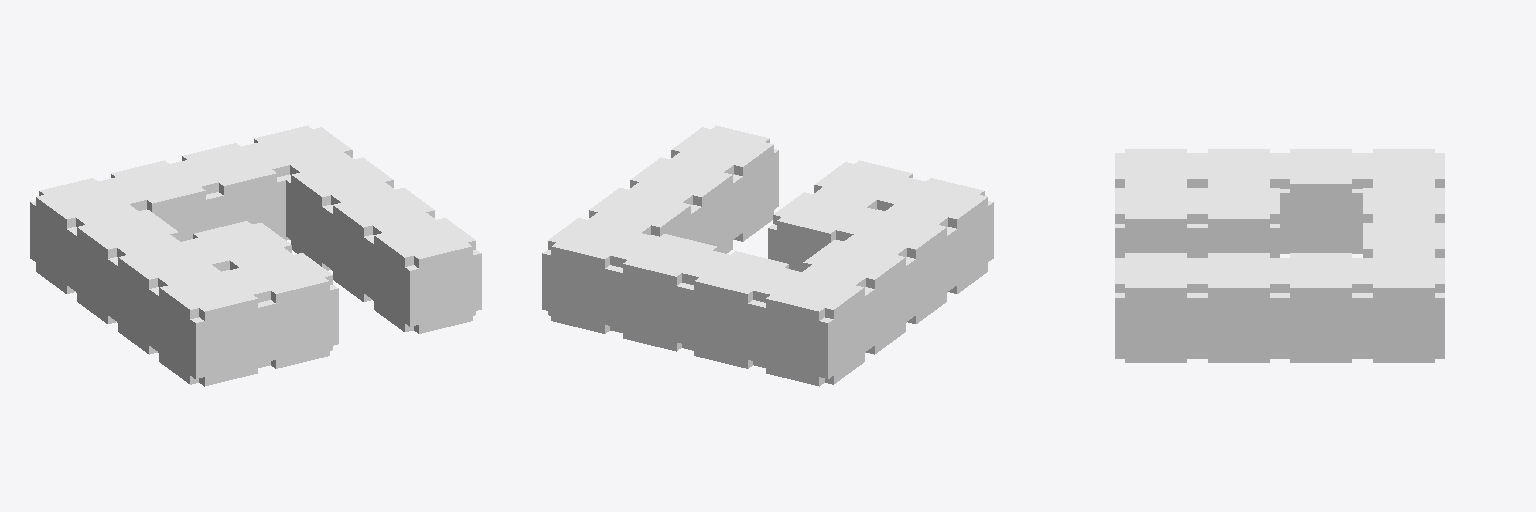
File: tetris_L_wall.obj
3 views of the same model, side by side, from view 1: azimuth 30°, elevation 25°; view 2: azimuth 150°, elevation 25°; view 3: azimuth 270°, elevation 25° (orthographic).
Parts seen in each view (by area): view 1: object 1; view 2: object 1; view 3: object 1.
Part boxes in pixels (x1,y1,x2,y2): object 1: (30, 125, 481, 386); object 1: (542, 125, 993, 386); object 1: (1115, 149, 1444, 362).
Bounding box in the file's own units: 3.2 × 0.8 × 3.2.